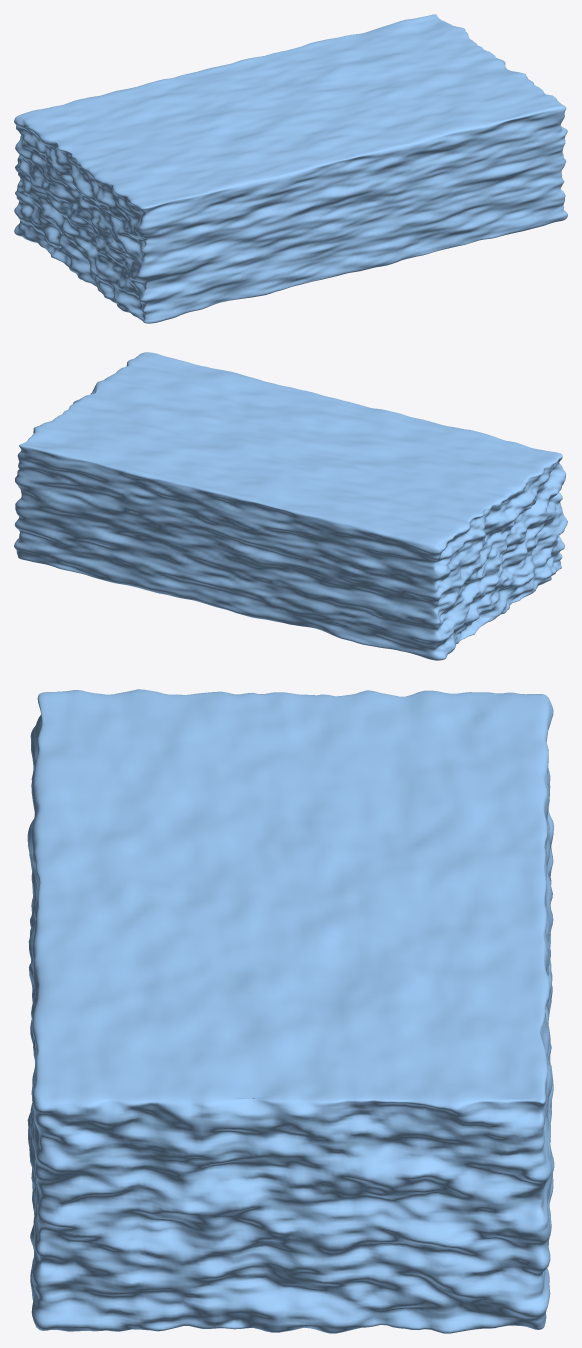
Rendered from water.fbx.
3 views of the same model, one above another, from view 1: azimuth 30°, elevation 25°; view 2: azimuth 150°, elevation 25°; view 3: azimuth 270°, elevation 25° (orthographic). The views are drawn at different scales.
Parts seen in each view (by area): view 1: Cube; view 2: Cube; view 3: Cube.
Part boxes in pixels (left/top/right/bottom): Cube: left=14, top=14, right=567, bottom=323; Cube: left=14, top=352, right=567, bottom=660; Cube: left=27, top=689, right=554, bottom=1333.
Size of the model in its own units: 791 by 207 by 414.
